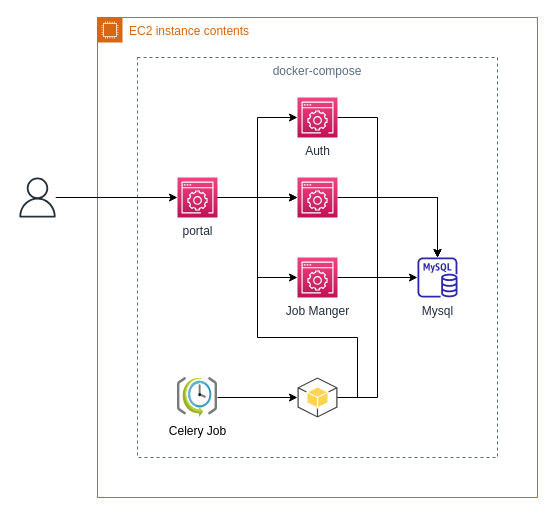
Image size: 555x515. Some labels were removed from this diagram. Each missing label, with the centre of its shape:
billingshow: pixel 317 397
Config: pixel 317 197
User: pixel 37 197
